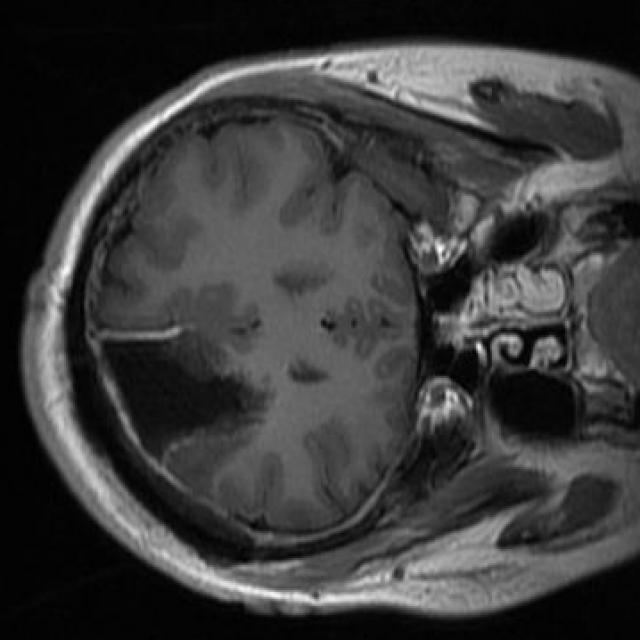glioma: (100, 335, 267, 460)
